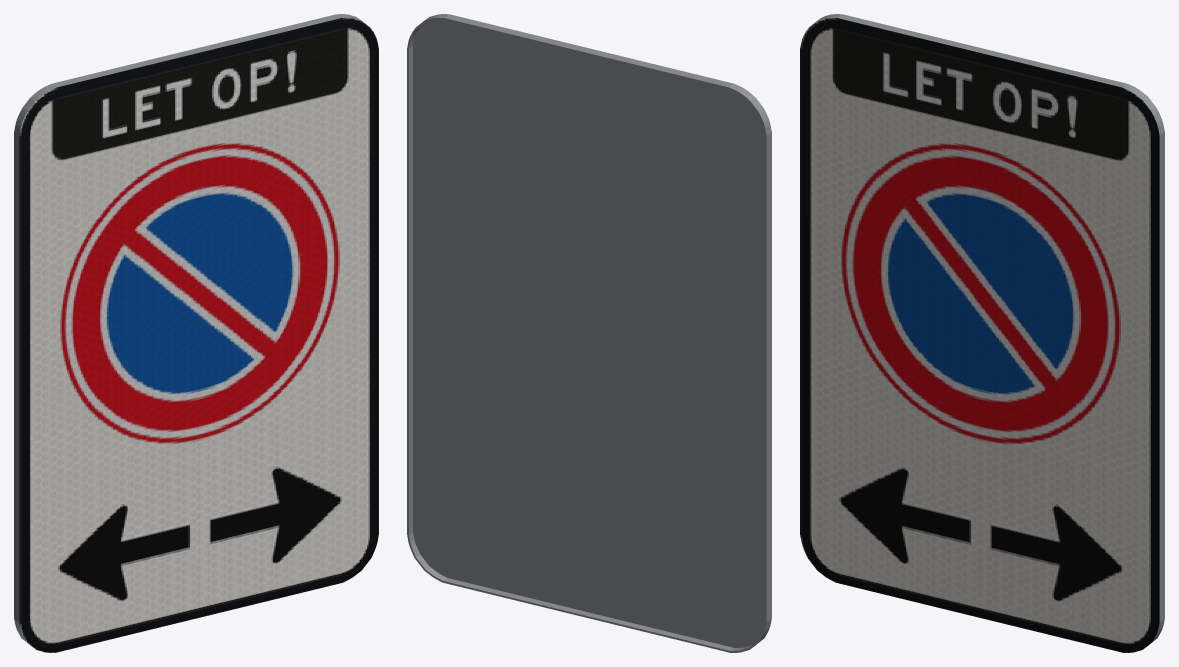
The picture shows the model from 3 angles, left to right: view 1: azimuth 30°, elevation 25°; view 2: azimuth 150°, elevation 25°; view 3: azimuth 330°, elevation 25°; orthographic projection.
Parts seen in each view (by area): view 1: cat_69b8d50f90af1e10; view 2: cat_69b8d50f90af1e10; view 3: cat_69b8d50f90af1e10.
Part boxes in pixels (x1,y1,x2,y2): cat_69b8d50f90af1e10: (14,14,378,652); cat_69b8d50f90af1e10: (407,14,771,652); cat_69b8d50f90af1e10: (800,14,1164,652).
Bounding box in the file's own units: 0.6 × 0.015 × 0.9012.
Materials: 2 (1 with a texture image).
